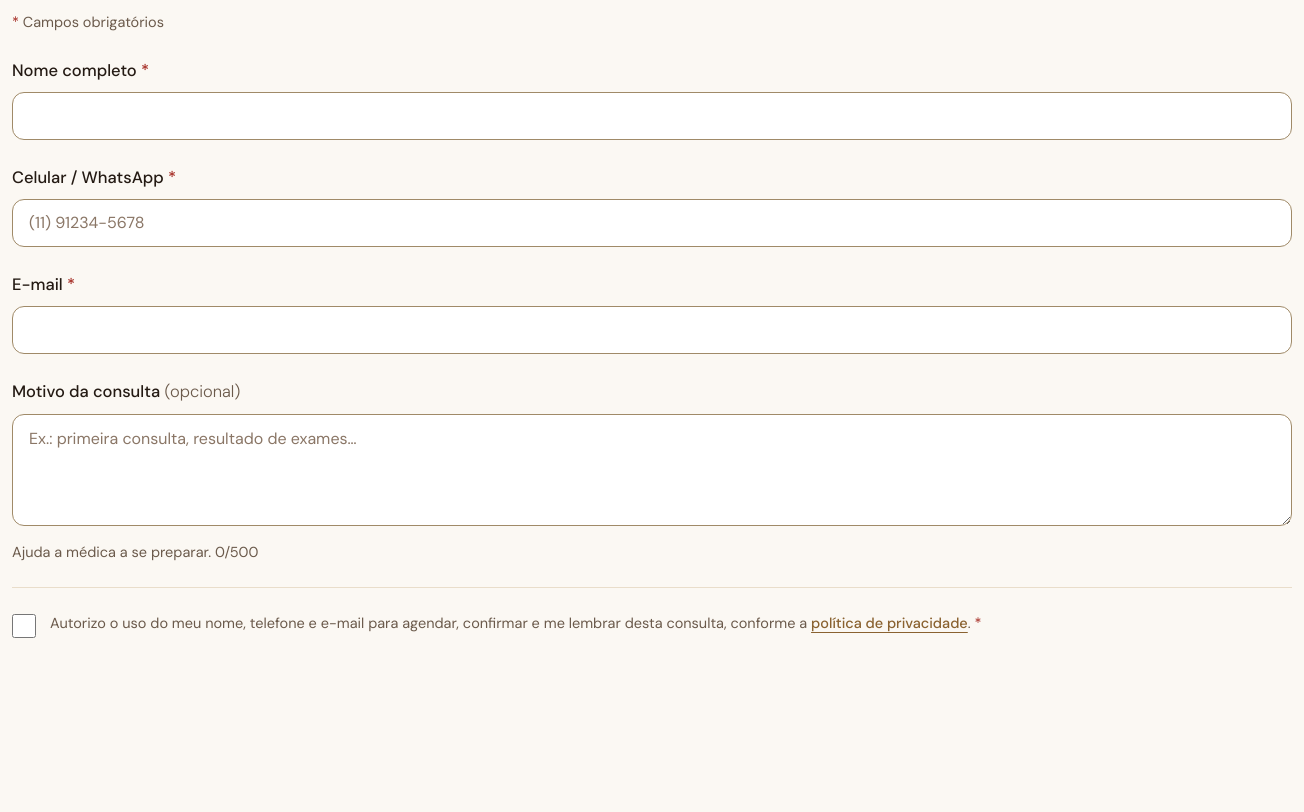
Test: <FormularioDados> › sugere correção de e-mail com domínio comum errado, e "Corrigir" aplica a sugestão
Type "ana@gmial.com" into the field labelled "E-mail *". click: {"x": 652, "y": 330}
box: [12, 306, 1292, 354]
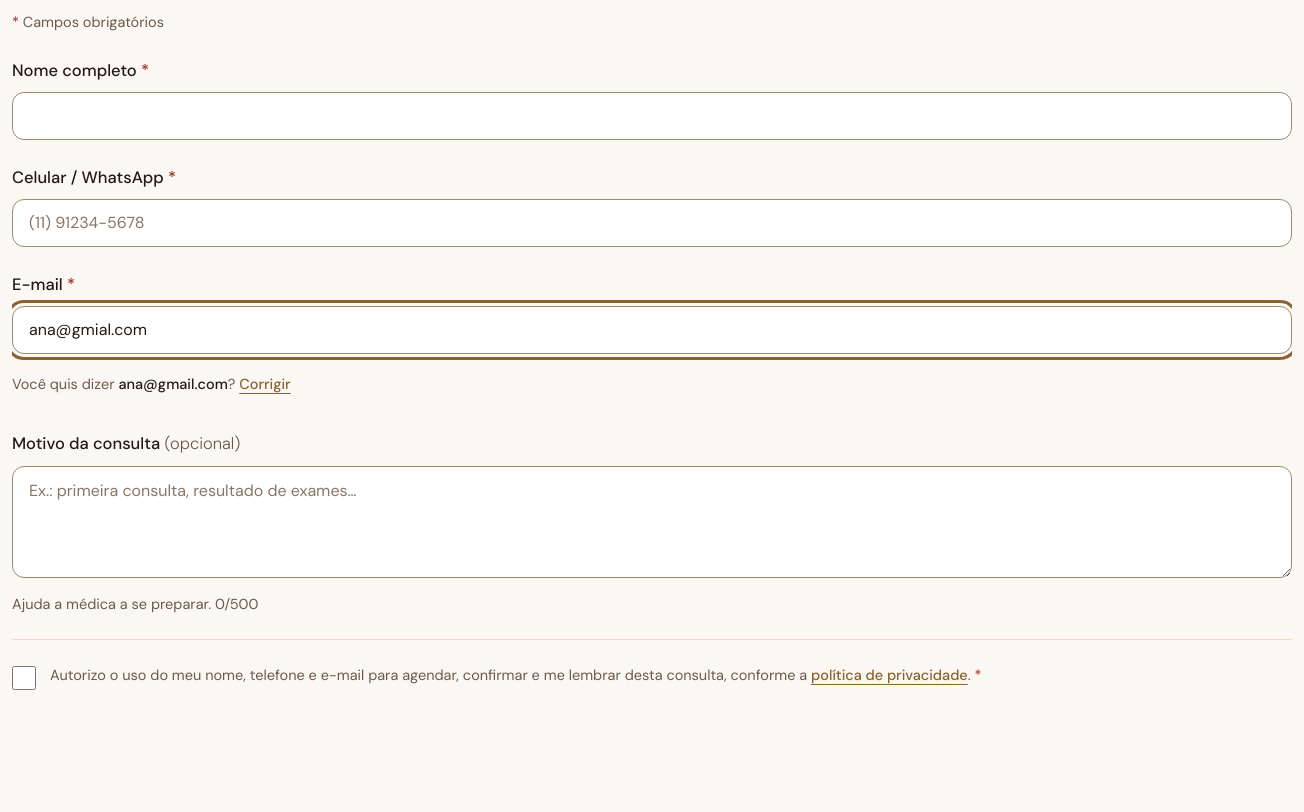
Expected: the text "Você quis dizer ana@gmail.com? Corrigir" is shown, [12, 362, 291, 406]
Expected: the text "ana@gmail.com" is shown, [118, 375, 228, 393]
Click the button "Corrigir". click: {"x": 265, "y": 384}
box: [239, 362, 291, 406]
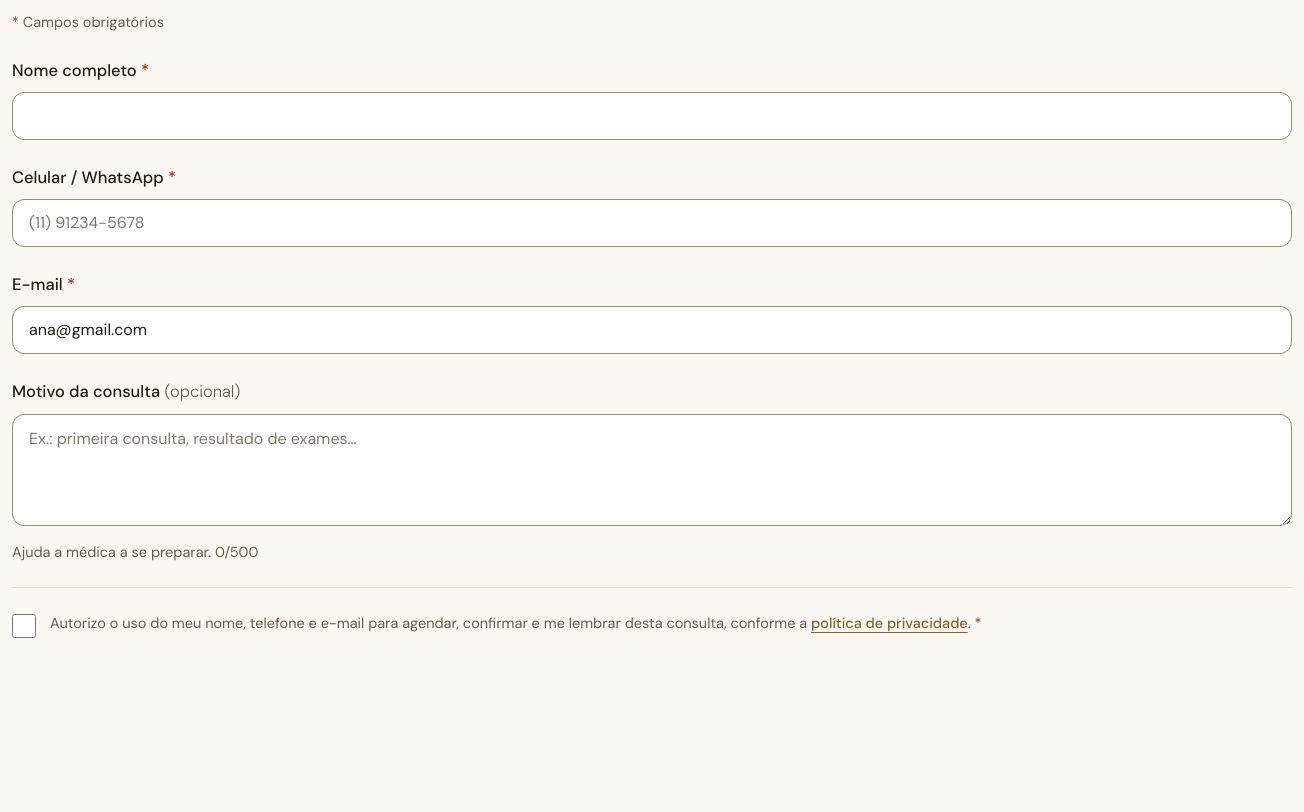
Expected: the field labelled "E-mail *" holds "ana@gmail.com", [12, 306, 1292, 354]
Expected: the text "Você quis dizer" is gone
